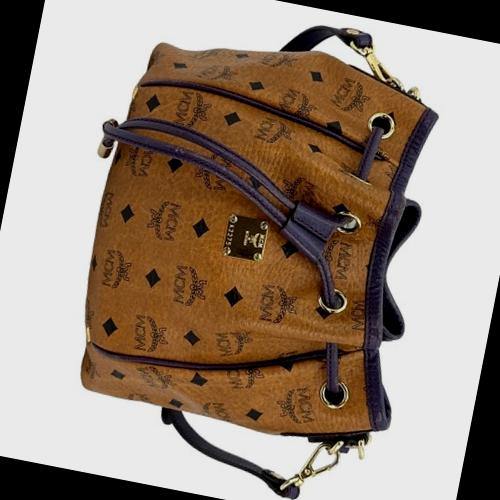MCM: (63, 20, 444, 458)
